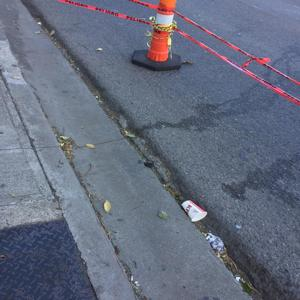cardboard: (178, 198, 215, 226)
plastic: (198, 225, 236, 257)
